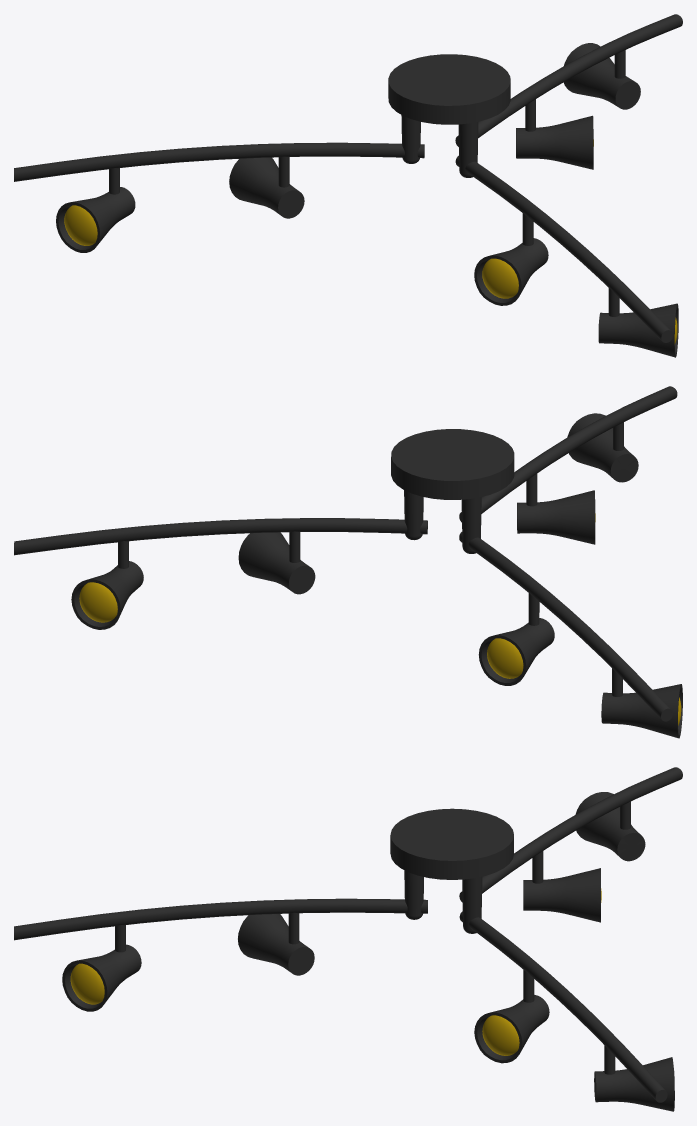
The model's file is Spot4_3.fbx.
The picture shows the model from 3 angles, top to bottom: view 1: azimuth 30°, elevation 25°; view 2: azimuth 150°, elevation 25°; view 3: azimuth 270°, elevation 25°; orthographic projection.
Parts seen in each view (by area): view 1: pCylinder1364, pCylinder1365, pCylinder1362, pCylinder1363, pCylinder1359, pCylinder1369, pCylinder1370, pCylinder1367, pCylinder1358, pCylinder1373, pCylinder1361, pSphere179 (+1 smaller); view 2: pCylinder1364, pCylinder1363, pCylinder1365, pCylinder1367, pCylinder1362, pCylinder1369, pCylinder1373, pCylinder1370, pCylinder1359, pCylinder1358, pCylinder1361, pSphere182 (+1 smaller); view 3: pCylinder1364, pCylinder1362, pCylinder1363, pCylinder1365, pCylinder1358, pCylinder1370, pCylinder1367, pCylinder1369, pCylinder1373, pCylinder1359, pCylinder1361, pSphere183 (+1 smaller).
Part boxes in pixels (x1,y1,x2,y2): pCylinder1364: (388, 54, 510, 124); pCylinder1365: (14, 142, 424, 181); pCylinder1362: (455, 155, 672, 342); pCylinder1363: (455, 14, 682, 146); pCylinder1359: (56, 187, 135, 252); pCylinder1369: (474, 238, 548, 305); pCylinder1370: (516, 115, 593, 169); pCylinder1367: (229, 157, 304, 218); pCylinder1358: (598, 303, 678, 357); pCylinder1373: (563, 43, 640, 109); pCylinder1361: (401, 115, 478, 177); pSphere179: (482, 258, 518, 298); pCylinder1364: (391, 429, 514, 499); pCylinder1363: (14, 518, 427, 555); pCylinder1365: (459, 532, 672, 721); pCylinder1367: (478, 618, 554, 685); pCylinder1362: (459, 386, 677, 522); pCylinder1369: (517, 490, 595, 544); pCylinder1373: (71, 561, 143, 629); pCylinder1370: (238, 532, 315, 594); pCylinder1359: (601, 684, 682, 738); pCylinder1358: (567, 413, 638, 482); pCylinder1361: (404, 490, 481, 553); pSphere182: (79, 582, 117, 622); pCylinder1364: (390, 808, 513, 879); pCylinder1362: (14, 898, 427, 940); pCylinder1363: (459, 911, 667, 1102); pCylinder1365: (459, 767, 682, 902); pCylinder1358: (62, 944, 141, 1011); pCylinder1370: (474, 995, 549, 1063); pCylinder1367: (523, 868, 600, 922); pCylinder1369: (238, 914, 314, 975); pCylinder1373: (594, 1057, 674, 1111); pCylinder1359: (575, 792, 645, 861); pCylinder1361: (404, 870, 482, 933); pSphere183: (482, 1015, 519, 1055).
Size of the model in its own units: 65.53 by 14.45 by 56.94.
